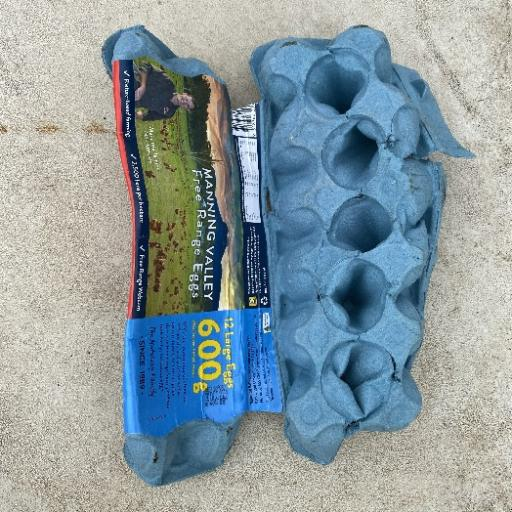Cardboard: (245, 23, 475, 466), (100, 24, 256, 486)
